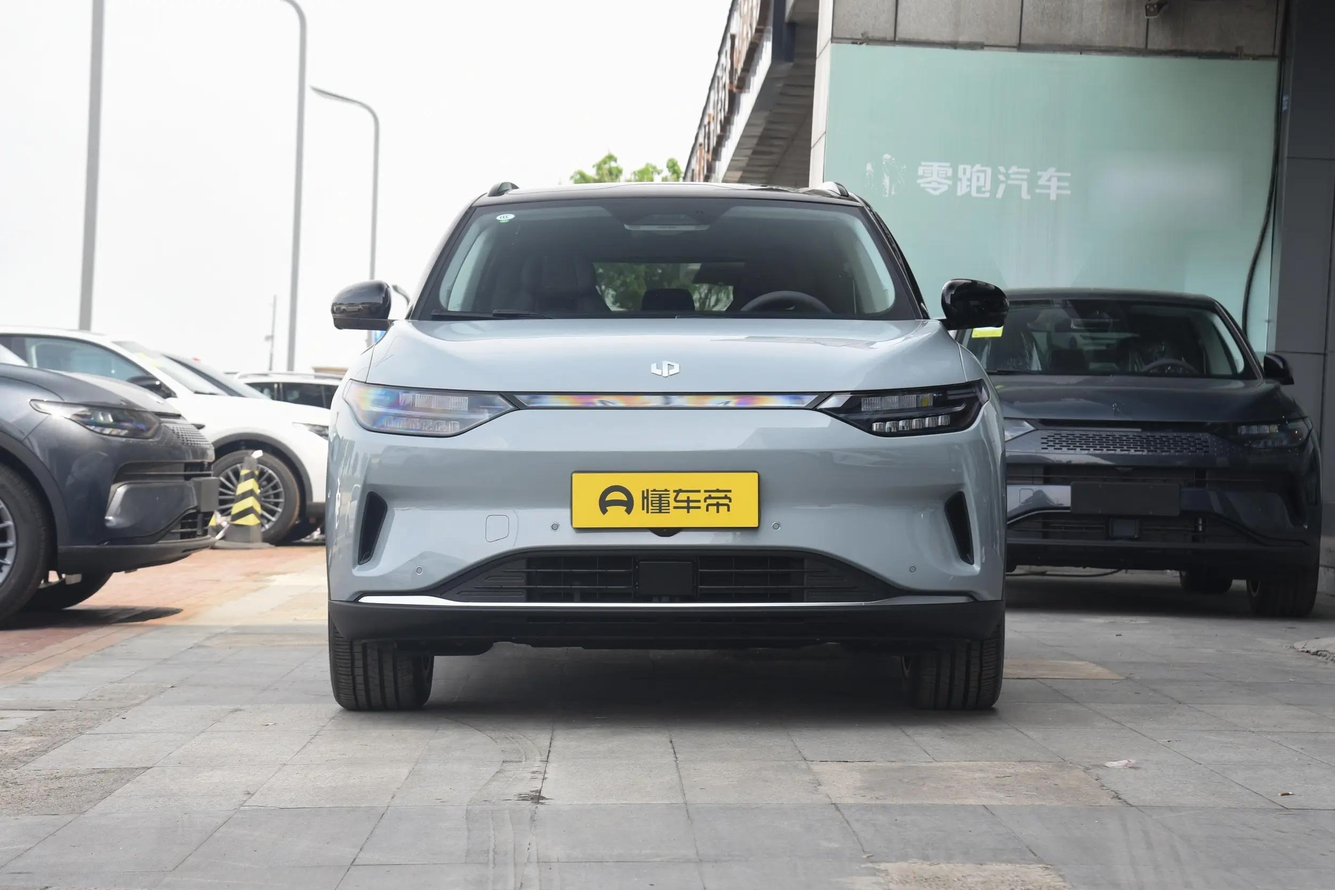LEAPMOTOR: (650, 359, 681, 377)
